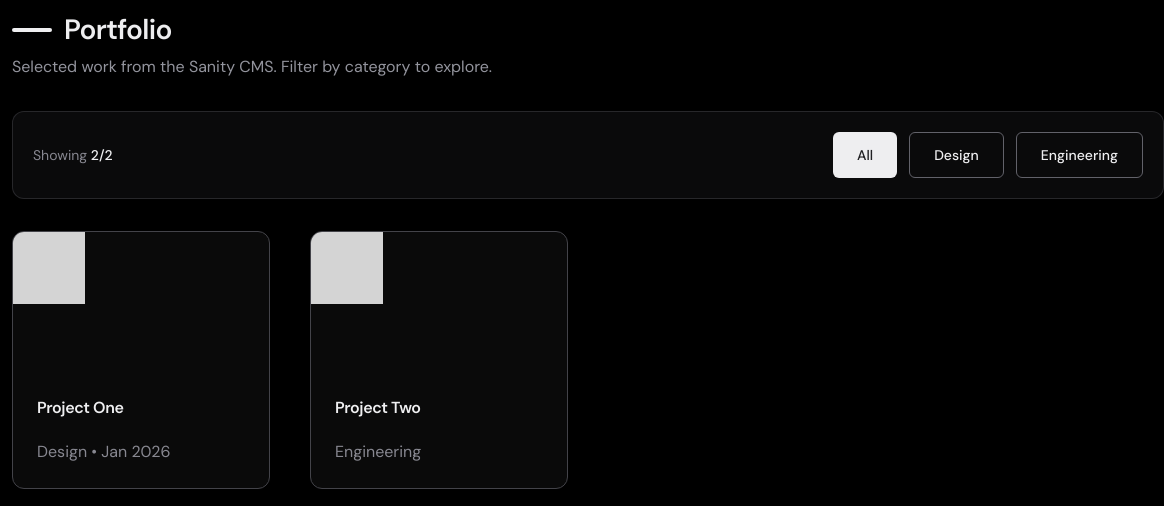
PortfolioGrid › renders items and filters by category
Check: the heading "Portfolio" is shown, box [64,12,172,47]
Click the button "Design" at {"x": 956, "y": 155}, box [909,132,1004,178]
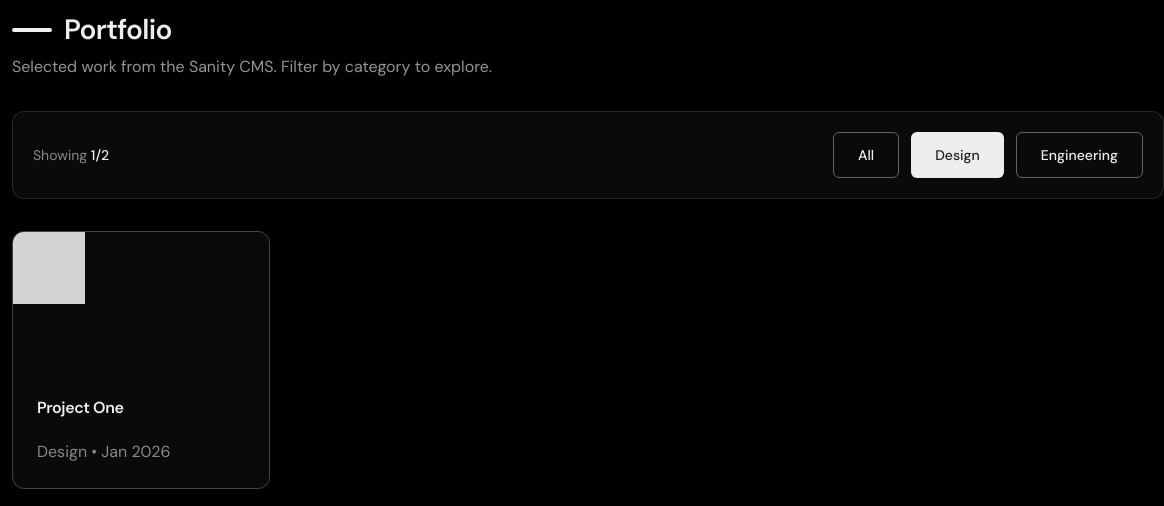
Check: the link "Project One Design • Jan 2026" is shown, box [12,231,270,489]
Check: the link "Project Two" is gone
Click the button "All" at {"x": 866, "y": 155}, box [833,132,899,178]
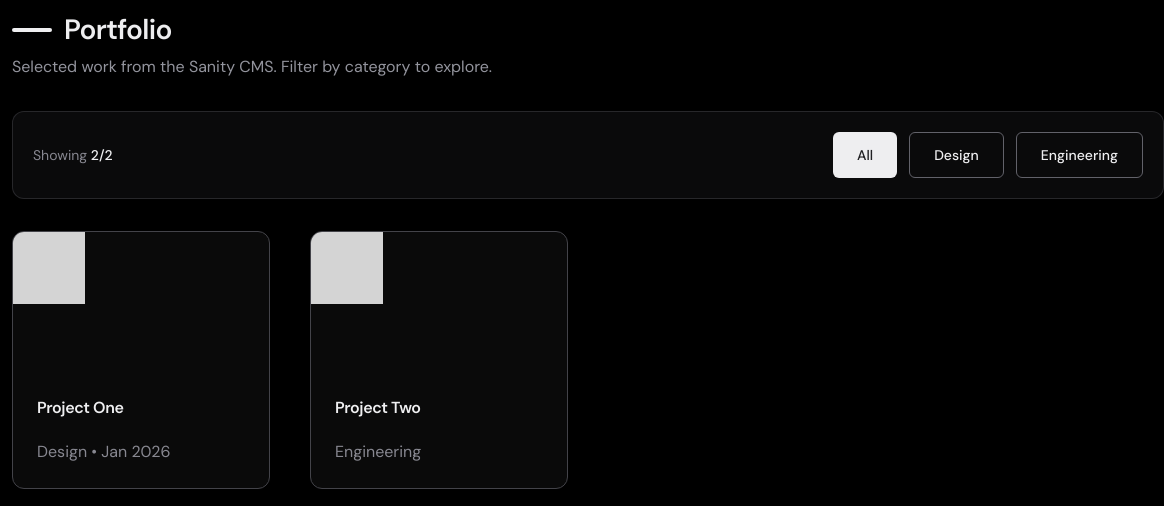
Check: the link "Project Two Engineering" is shown, box [310,231,568,489]
